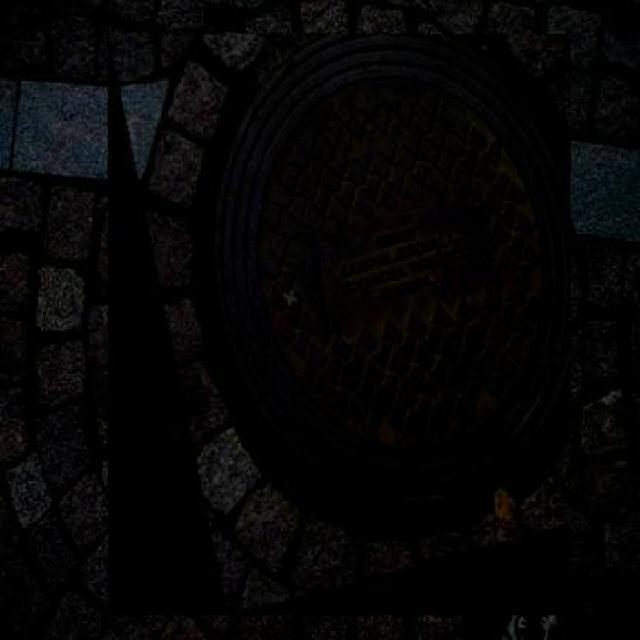Manhole: (108, 34, 570, 616)
